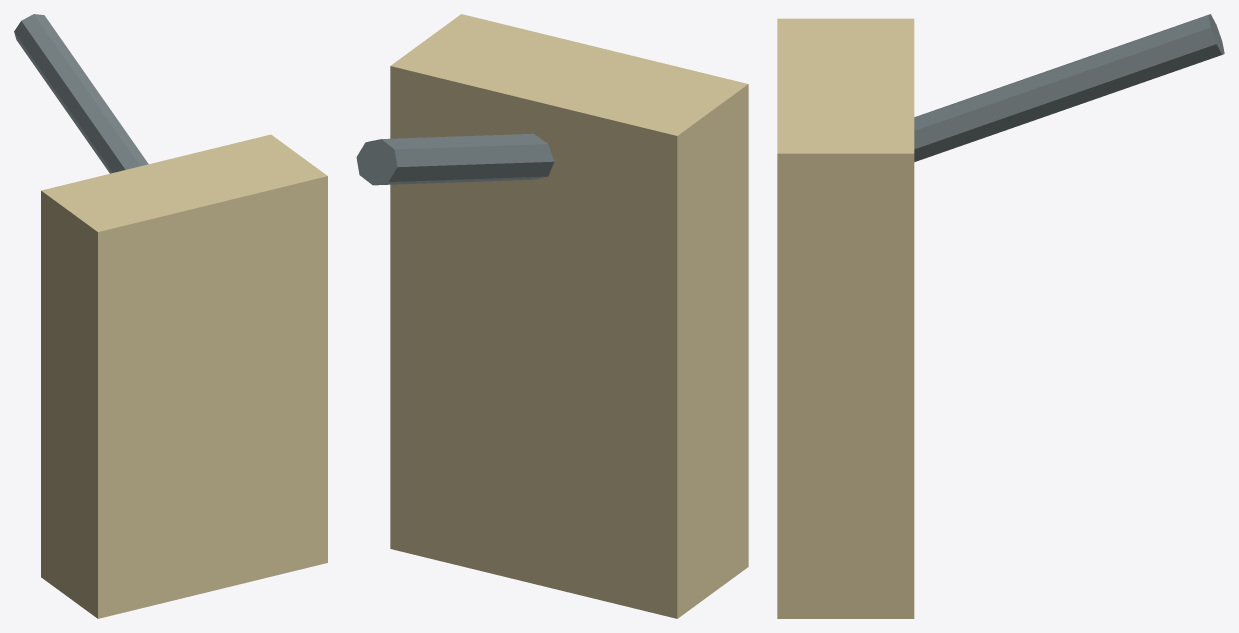
Rendered from air_mic_015.glb.
3 renders of one model, left to right at view 1: azimuth 30°, elevation 25°; view 2: azimuth 150°, elevation 25°; view 3: azimuth 270°, elevation 25°, orthographic. The views are drawn at different scales.
Visible parts, largest first — view 1: cockpit_part.002, control.002; view 2: cockpit_part.002, control.002; view 3: cockpit_part.002, control.002.
Part boxes in pixels (x1,y1,x2,y2): cockpit_part.002: [41, 134, 327, 618]; control.002: [14, 14, 148, 173]; cockpit_part.002: [390, 14, 748, 618]; control.002: [356, 133, 554, 185]; cockpit_part.002: [777, 18, 914, 618]; control.002: [914, 14, 1224, 161].
Size of the model in its own units: 0.56 by 1.04 by 0.7844.
